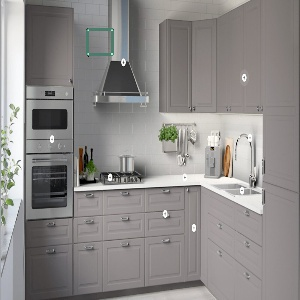square: (83, 26, 117, 57)
